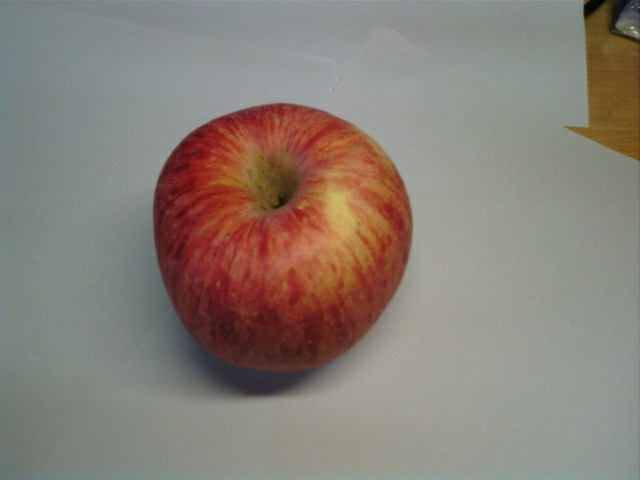normal_apple: (154, 103, 413, 377)
